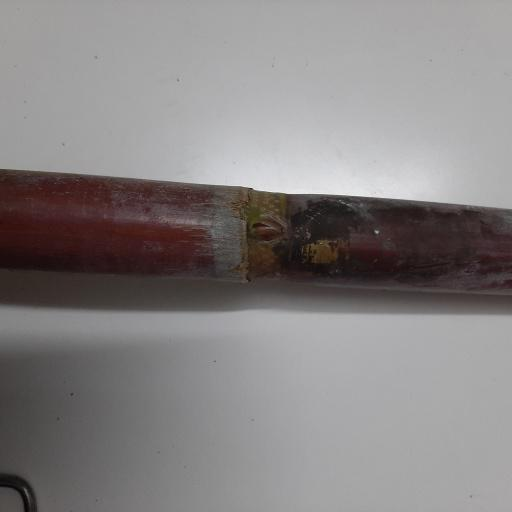Bud: (246, 216, 284, 241)
